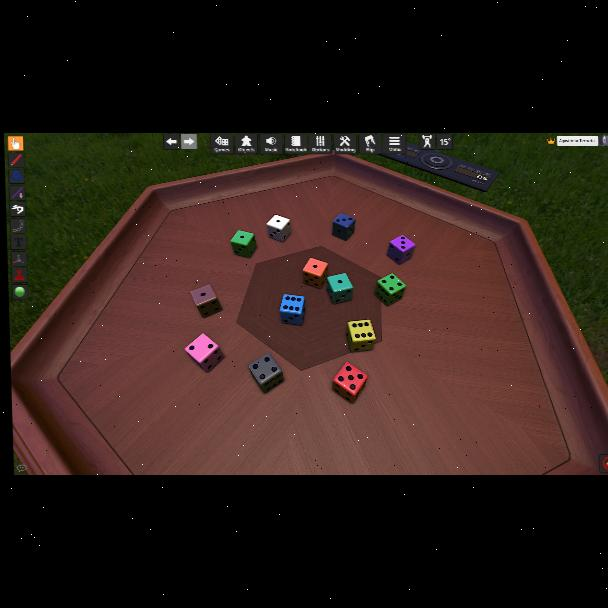d6: (184, 332, 225, 372), (331, 362, 367, 402), (248, 353, 284, 393), (190, 284, 221, 318), (374, 274, 406, 306), (346, 320, 376, 352), (385, 235, 414, 265), (279, 294, 306, 324), (326, 274, 352, 304), (230, 230, 257, 258), (302, 258, 327, 288), (266, 214, 291, 242), (332, 213, 356, 241)
